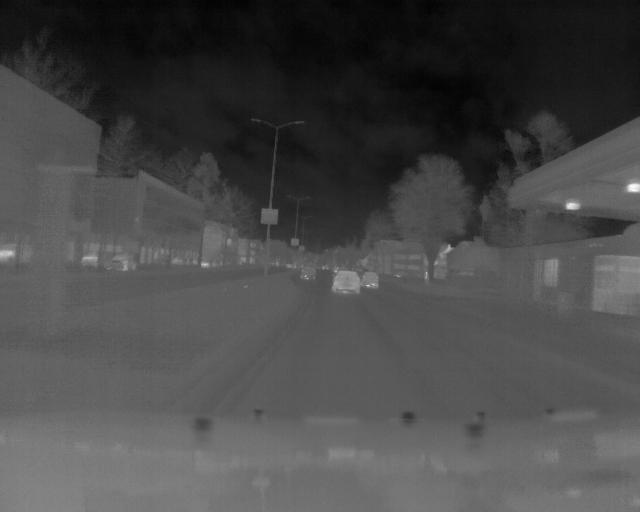car: (104, 251, 142, 274), (329, 268, 360, 294), (360, 268, 381, 289), (300, 262, 318, 282)
person: (423, 270, 432, 288)
